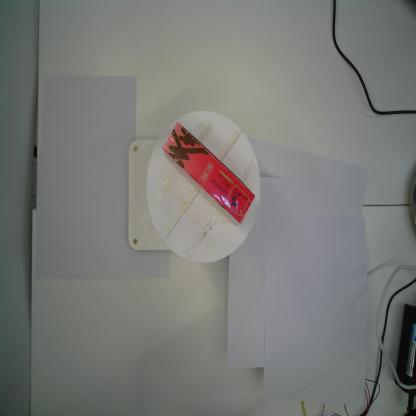Instant Drink: (162, 122, 255, 225)
